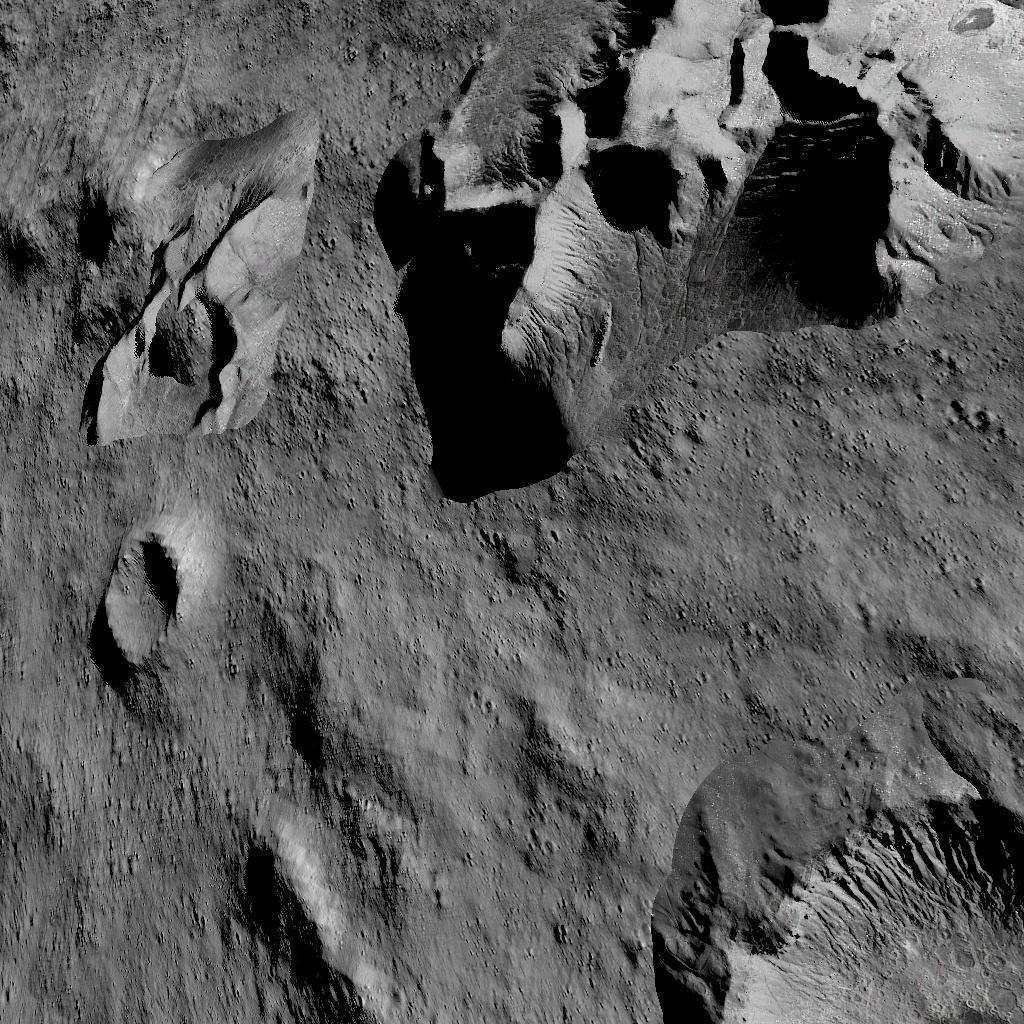Boulders: (388, 0, 1024, 503), (80, 108, 340, 448)
Crater: (677, 762, 1024, 1024), (102, 512, 197, 662)
Plan surface: (427, 516, 1024, 752), (0, 668, 272, 1024), (398, 762, 666, 1024), (0, 0, 377, 96), (1, 456, 95, 658)
